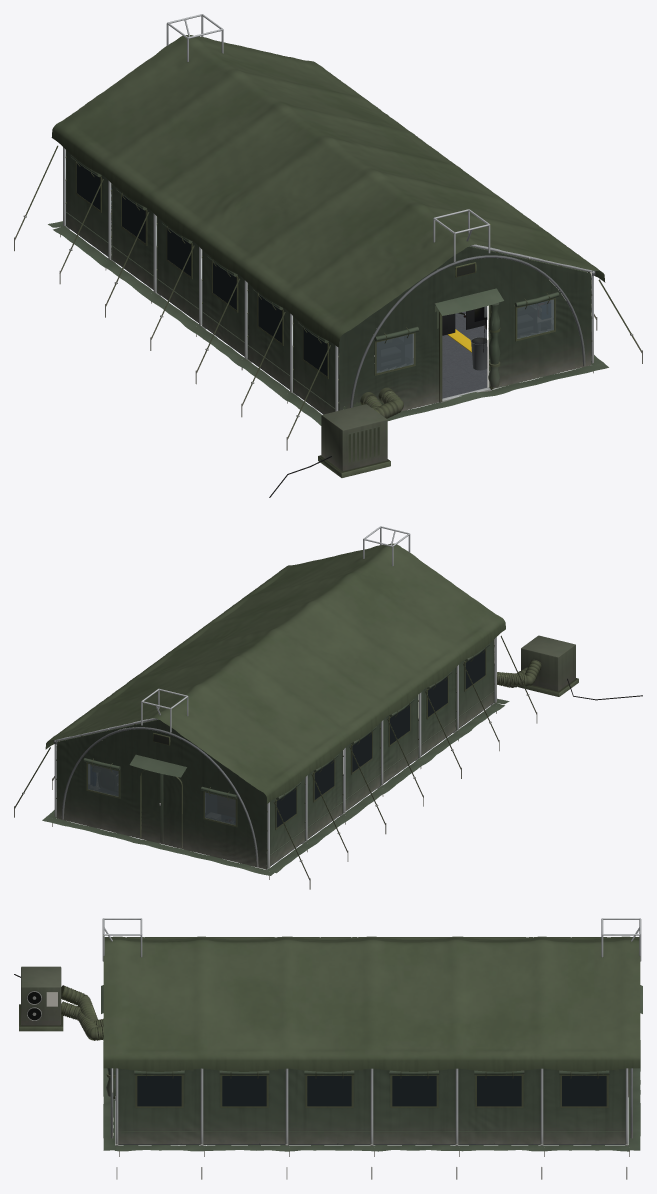
File: rdmss-deployed-fitted-web.glb
3 renders of one model, top to bottom at view 1: azimuth 30°, elevation 25°; view 2: azimuth 150°, elevation 25°; view 3: azimuth 270°, elevation 25°, orthographic. The views are drawn at different scales.
Parts seen in each view (by area): view 1: RDMSS_solar_shade, RDMSS_shelter, RDMSS_frame, RDMSS_fitout; view 2: RDMSS_solar_shade, RDMSS_shelter, RDMSS_frame; view 3: RDMSS_solar_shade, RDMSS_shelter, RDMSS_frame.
Boxes of the visible parts, x1,y1,x2,y2 form: RDMSS_solar_shade: (14, 35, 642, 450); RDMSS_shelter: (48, 150, 608, 497); RDMSS_frame: (60, 14, 595, 411); RDMSS_fitout: (125, 268, 487, 398); RDMSS_solar_shade: (14, 543, 537, 889); RDMSS_shelter: (42, 635, 642, 875); RDMSS_frame: (52, 526, 496, 879); RDMSS_solar_shade: (103, 936, 640, 1179); RDMSS_shelter: (14, 966, 642, 1151); RDMSS_frame: (102, 918, 641, 1156).
Size of the model in its own units: 10.37 by 4.26 by 14.1.
98 materials, 48 textured.
